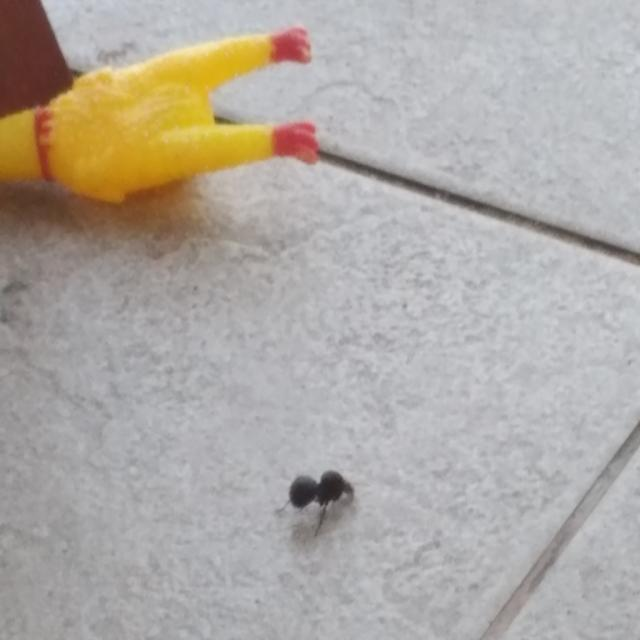Alive-Female-Dealate: (277, 470, 354, 538)
